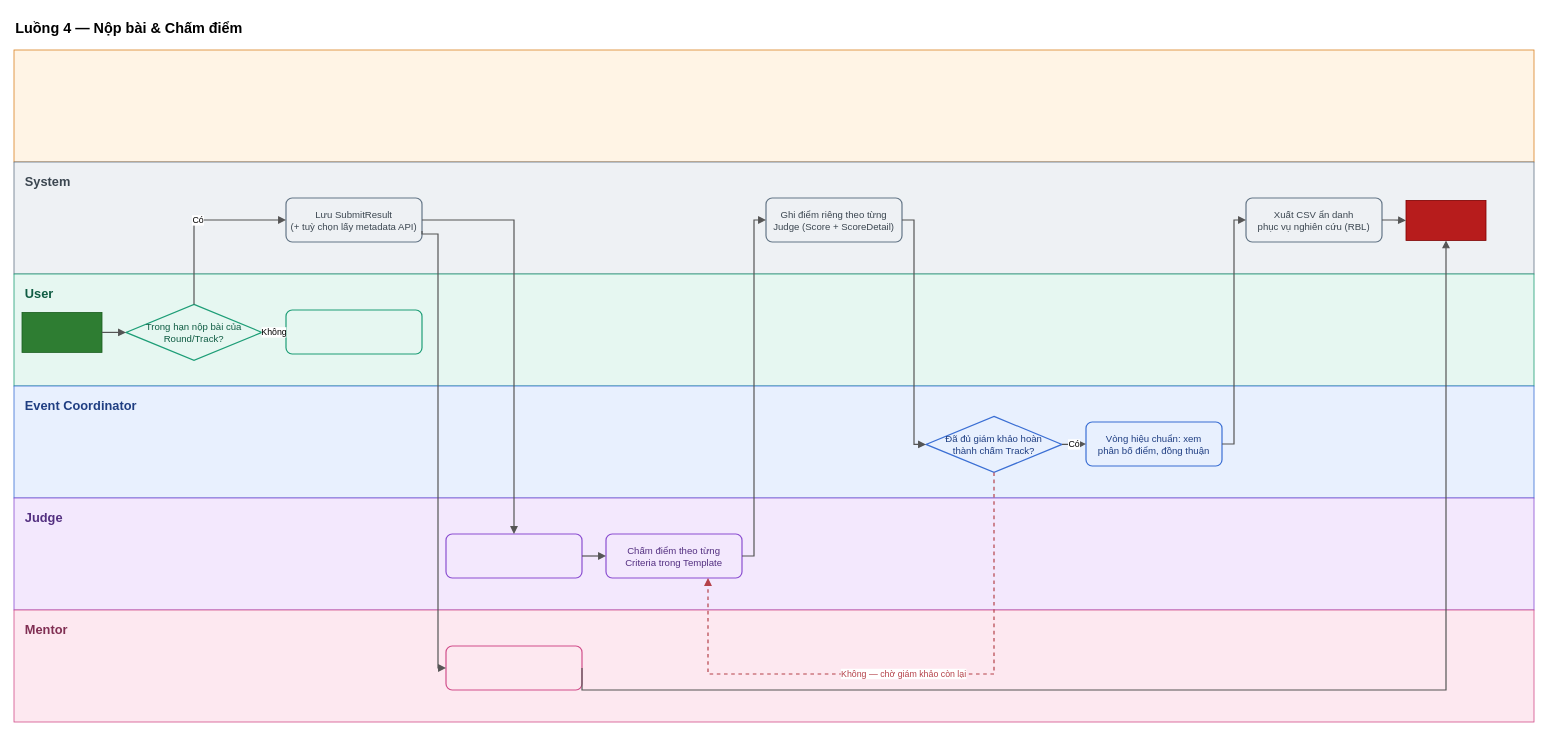
Some shapes in this 1548 by 736 pixel diagram are drawn without their labels. The shapes that lost their labels are listed below. From the top down, each one's centre as x and y in pixels, then its label:
the point at 773,105: Admin
the point at 1445,220: Kết thúc
the point at 61,332: Bắt đầu
the point at 353,331: Bị từ chối — quá hạn nộp bài
the point at 513,555: Nhận bài thuộc Track được phân công
the point at 513,667: Theo dõi tiến độ đội trong hạng mục phụ trách
